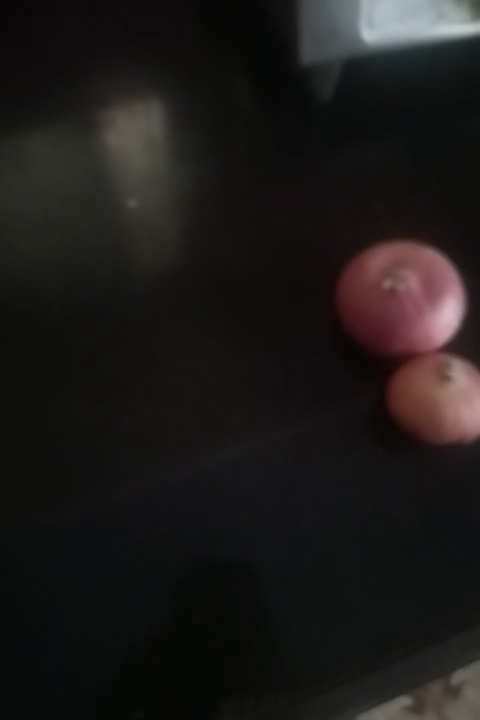onion: (334, 244, 467, 361), (379, 348, 480, 454)
